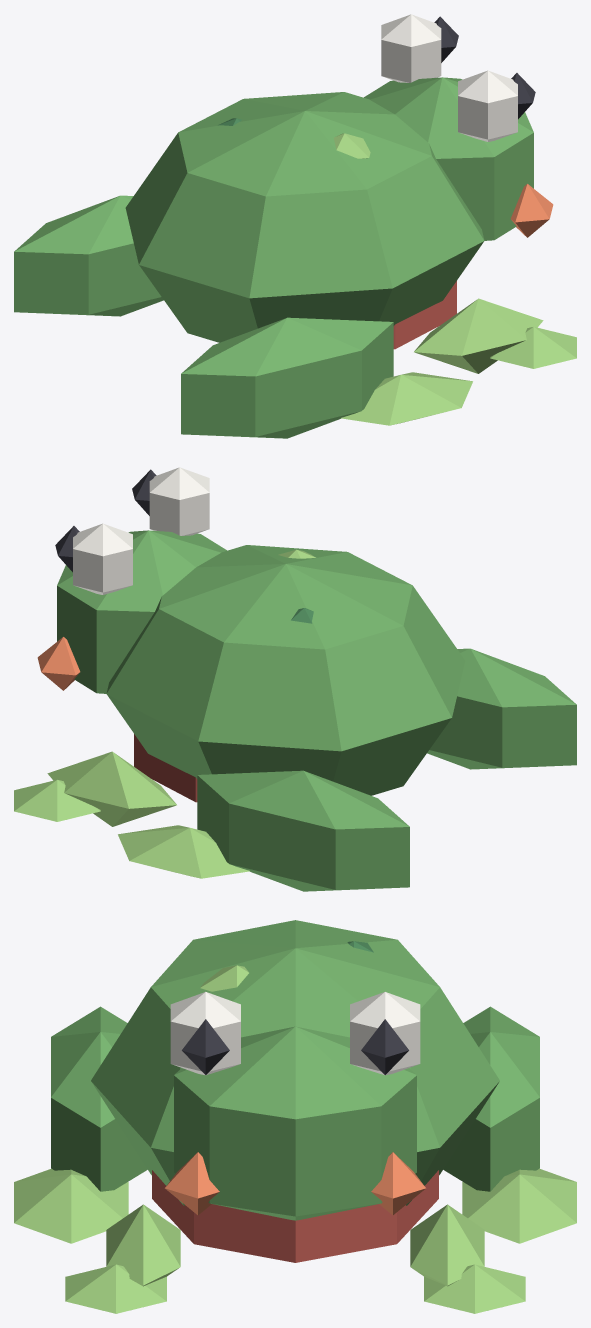
The model's file is deco_tree_frog.obj.
3 renders of one model, top to bottom at view 1: azimuth 30°, elevation 25°; view 2: azimuth 150°, elevation 25°; view 3: azimuth 270°, elevation 25°, orthographic. The views are drawn at different scales.
Parts seen in each view (by area): view 1: deco_tree_frog; view 2: deco_tree_frog; view 3: deco_tree_frog.
Part boxes in pixels (x1,y1,x2,y2): deco_tree_frog: [14, 14, 576, 438]; deco_tree_frog: [14, 467, 576, 891]; deco_tree_frog: [14, 920, 576, 1313].
Bounding box in the file's own units: 0.0292 × 0.0182 × 0.0289.
Materials: 1 (1 with a texture image).
